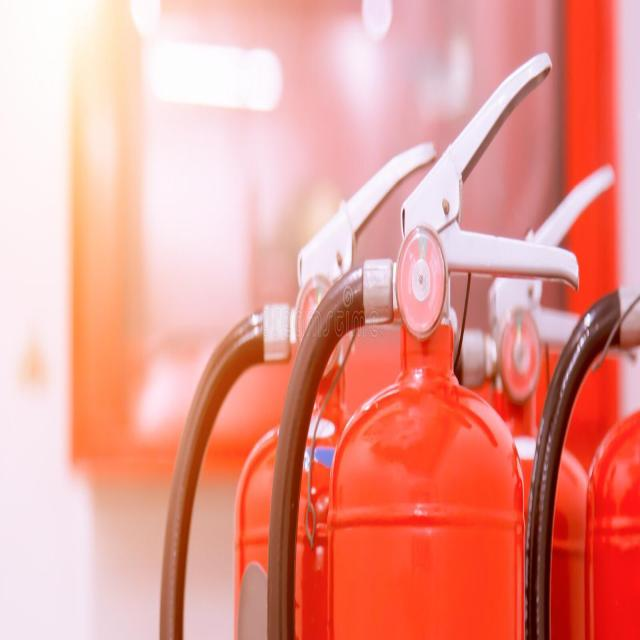fire_extinguisher: (262, 49, 590, 639), (152, 124, 468, 639)
